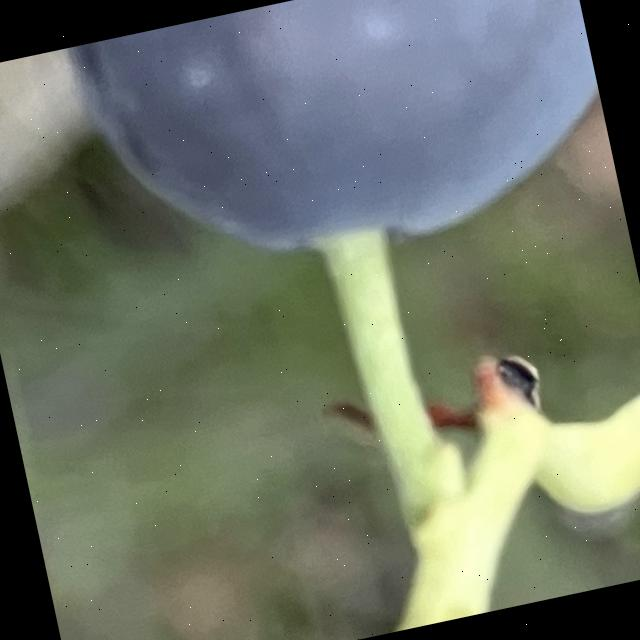Blueberries: (65, 0, 620, 298)
